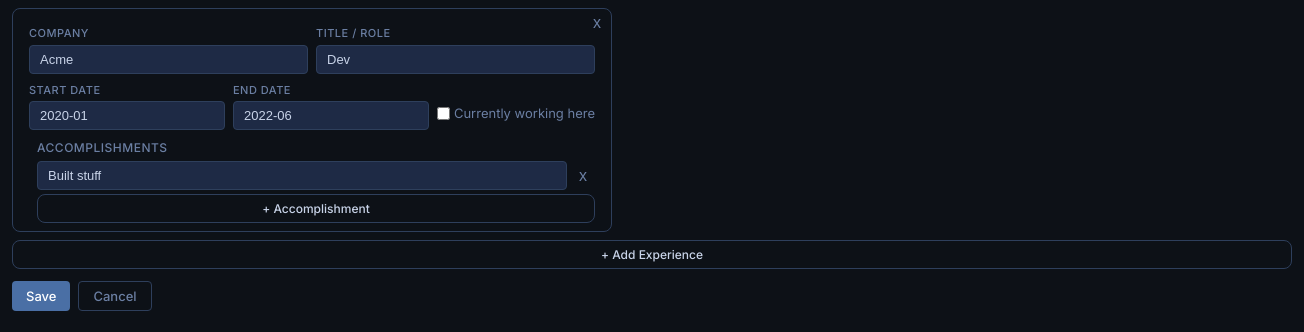
Scenario: SectionEditor › experience › has a "Currently working here" checkbox that nulls end_date
Step 1. Click the checkbox labelled "Currently working here" → [443, 114], box [437,107,450,120]
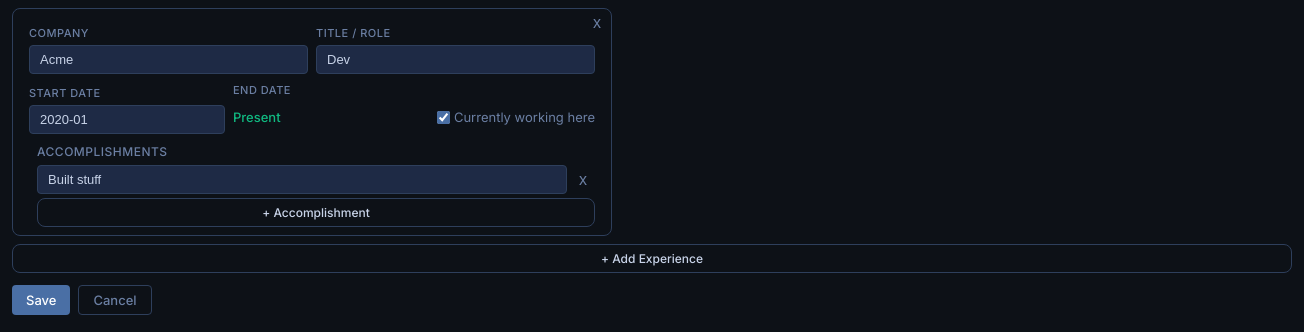
Check: the checkbox labelled "Currently working here" is checked, box [437,111,450,124]
Check: the text "Present" is shown, box [233,109,281,125]
